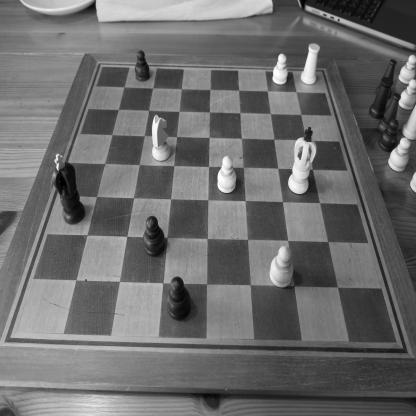black-bishop: (378, 92, 401, 135), (375, 58, 398, 99)
black-king: (51, 152, 86, 226)
black-pawn: (166, 275, 192, 322), (142, 215, 166, 258), (378, 118, 400, 153), (134, 49, 150, 82)
black-rook: (368, 76, 394, 120)
white-king: (288, 126, 317, 195)
white-knight: (151, 114, 172, 162)
white-pawn: (269, 245, 293, 290), (387, 136, 411, 174), (217, 155, 237, 194), (397, 54, 416, 85), (398, 78, 415, 111), (272, 52, 288, 86)
white-rook: (300, 42, 320, 86)
